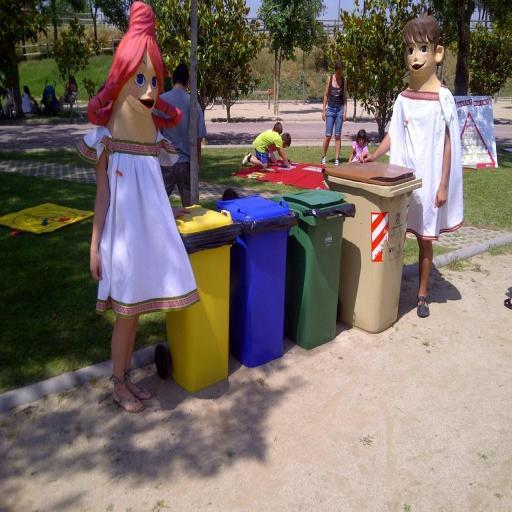trash-can: (334, 144, 422, 330)
